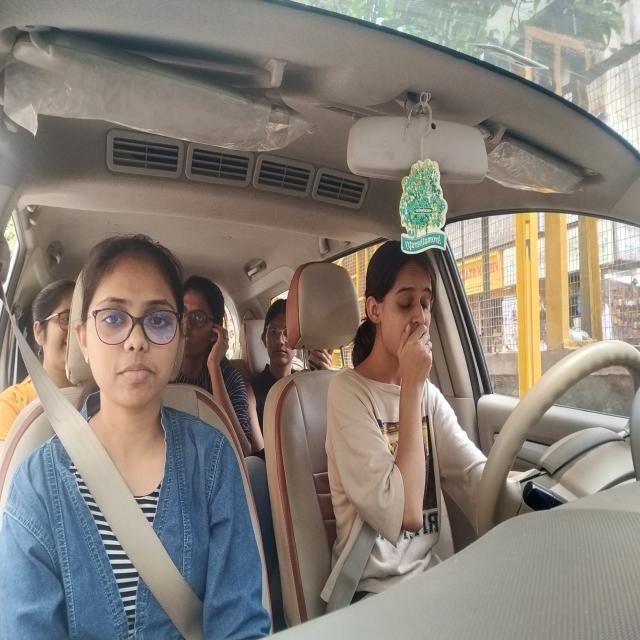drowsy: (355, 225, 451, 382)
person: (75, 222, 185, 414), (178, 255, 234, 404), (22, 253, 75, 407), (255, 281, 303, 402)
